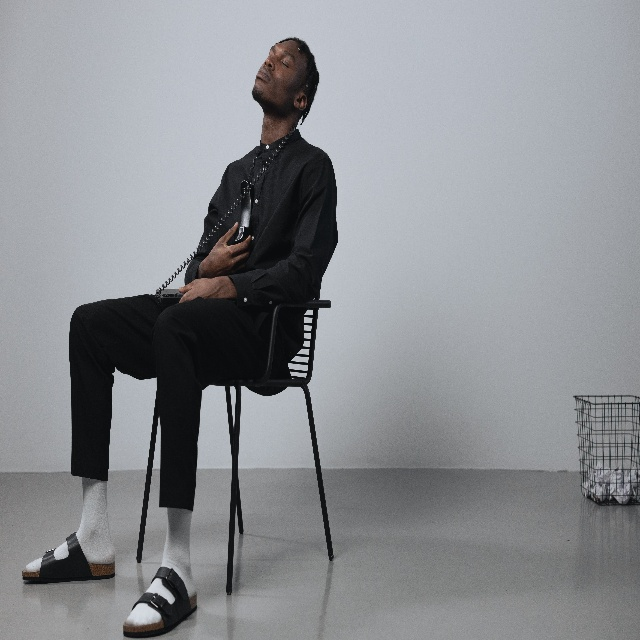Sin_guantes: (202, 220, 252, 277), (178, 276, 229, 303)
